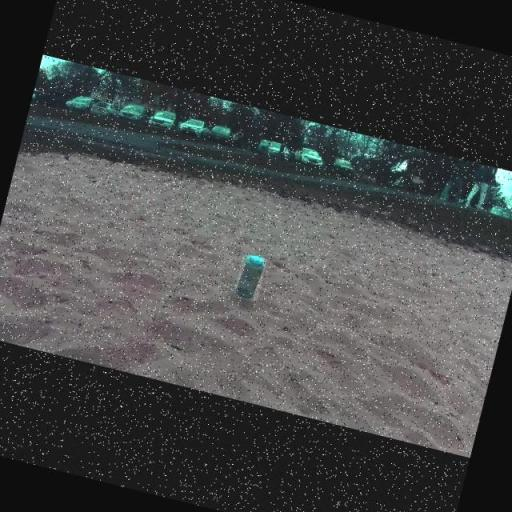bottle: (232, 253, 267, 302)
